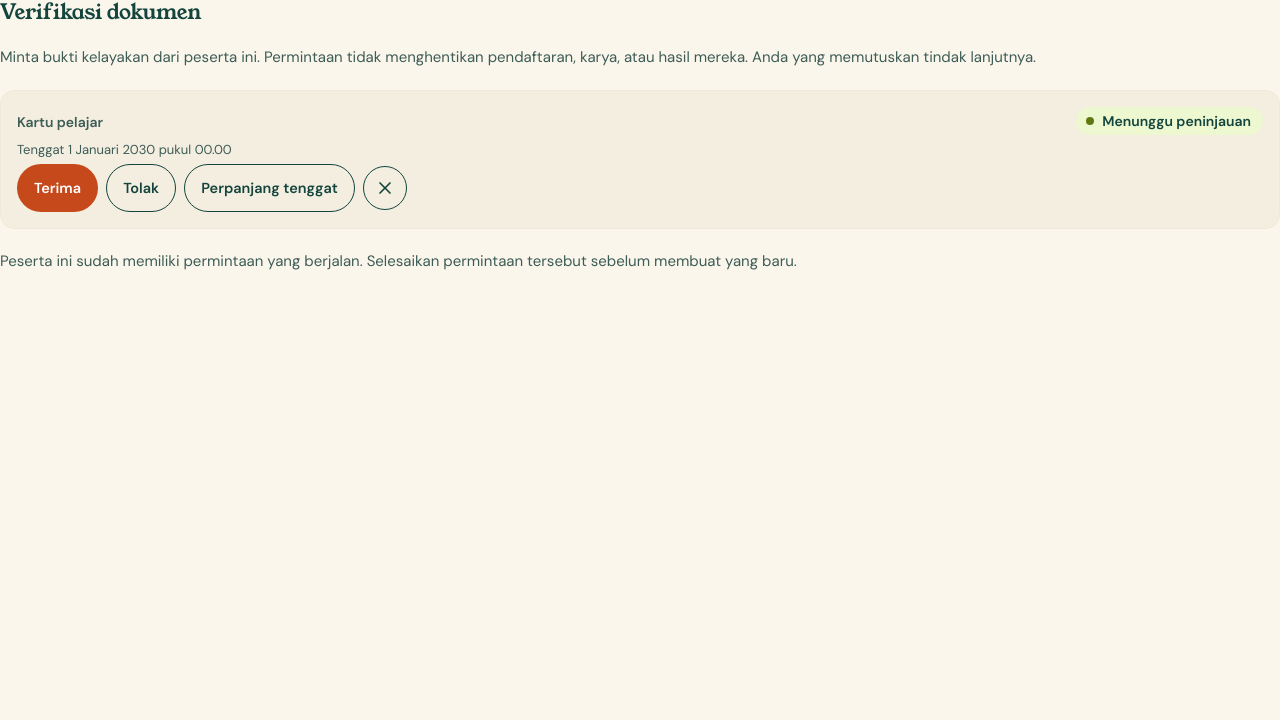
Test: the extend-deadline pop-up of a document request › shows the deadline error after the first press and sends nothing when the deadline is empty
The image size is (1280, 720).
Click the button "Perpanjang tenggat".
click(270, 188)  # box x1=184 y1=164 x2=355 y2=212
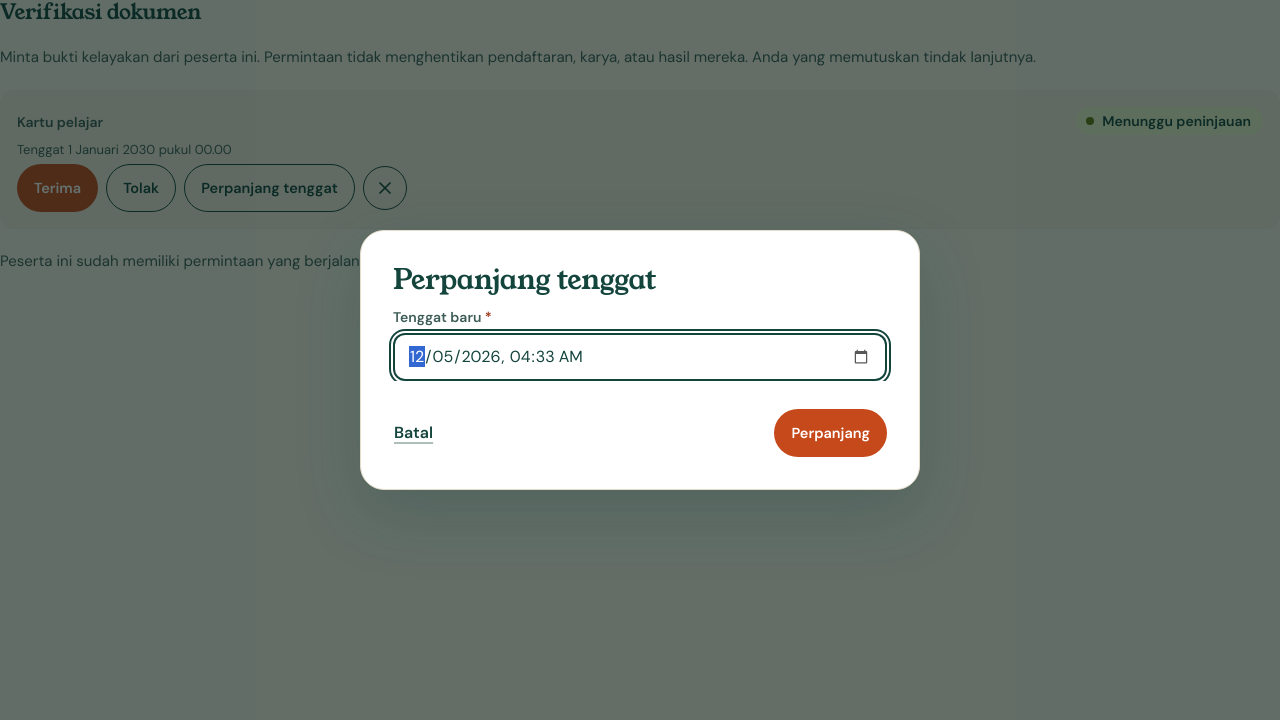
Clear the field labelled "Tenggat baru *" at (640, 357), box x1=393 y1=333 x2=887 y2=381
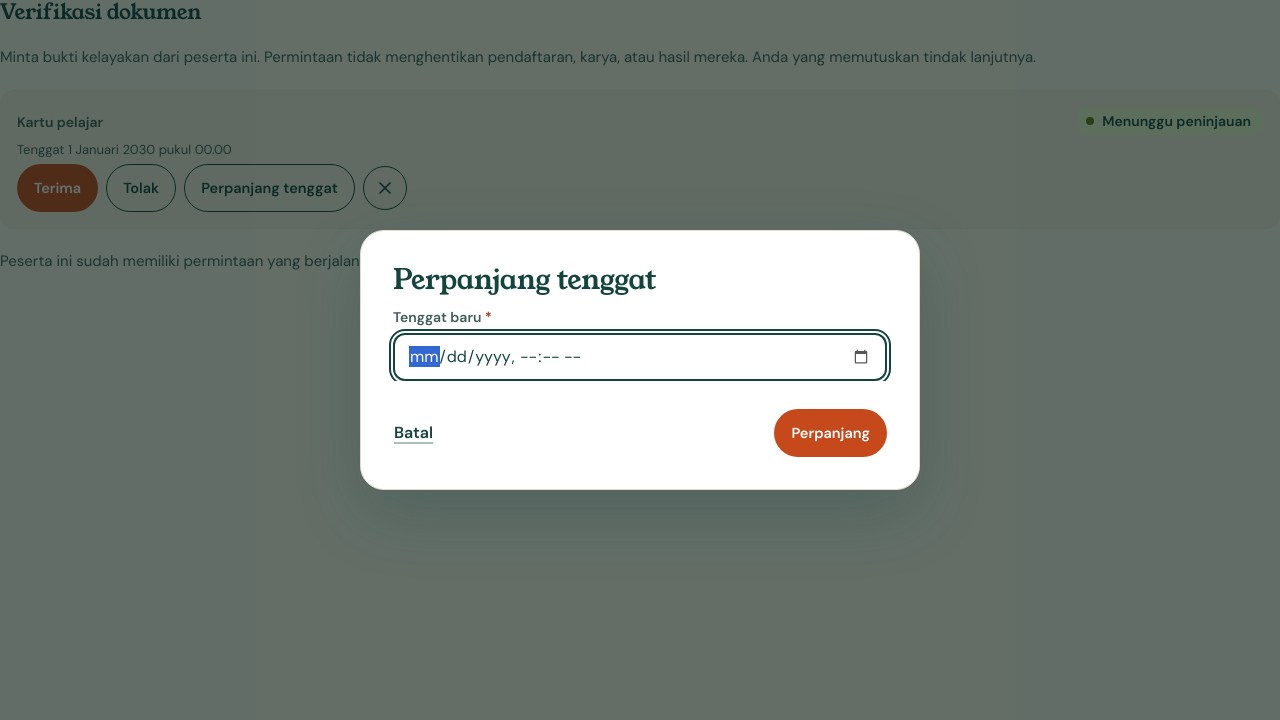
Expected: the text "Tenggat wajib diisi." is not shown
Click the button "Perpanjang".
click(831, 433)  # box x1=774 y1=409 x2=887 y2=457
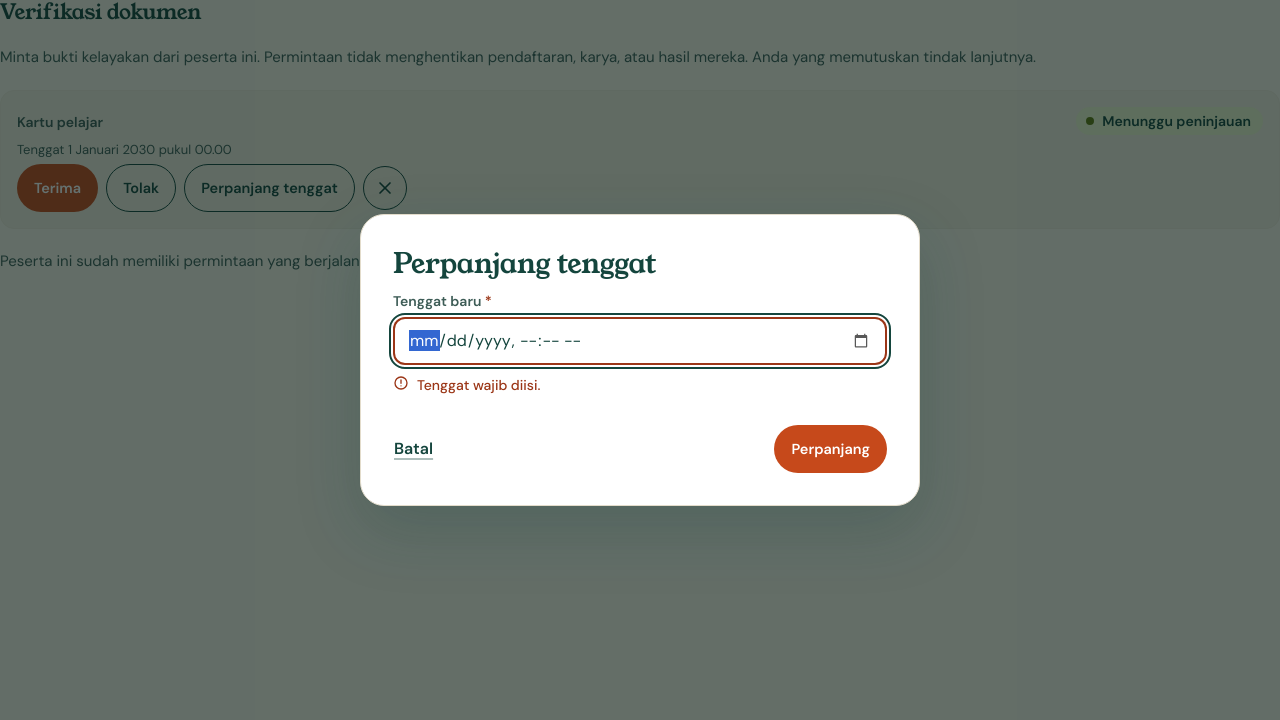
Now the text "Tenggat wajib diisi." is shown, box x1=417 y1=373 x2=540 y2=397
